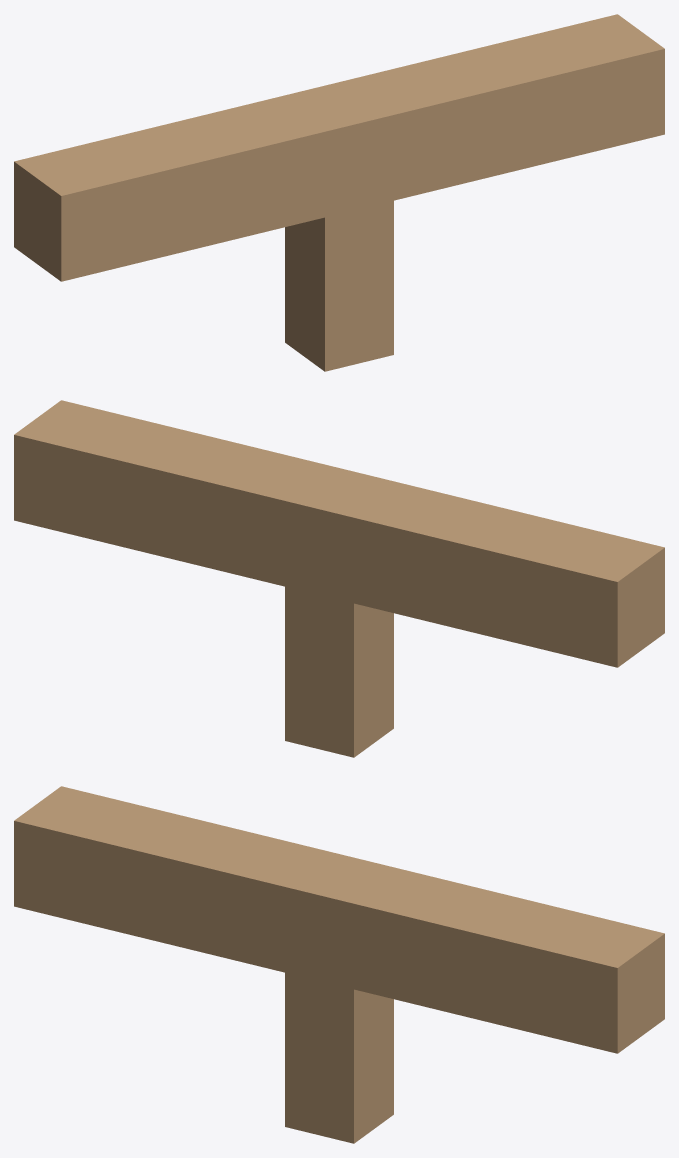
File: prop-auger-thandle-blank-ag1.fbx
3 views of the same model, one above another, from view 1: azimuth 30°, elevation 25°; view 2: azimuth 150°, elevation 25°; view 3: azimuth 330°, elevation 25° (orthographic).
Visible parts, largest first — view 1: prop-auger-thandle-blank-ag1; view 2: prop-auger-thandle-blank-ag1; view 3: prop-auger-thandle-blank-ag1.
Part boxes in pixels (x1,y1,x2,y2): prop-auger-thandle-blank-ag1: (14,14,664,371); prop-auger-thandle-blank-ag1: (14,400,664,757); prop-auger-thandle-blank-ag1: (14,786,664,1143).
Size of the model in its own units: 28 by 10.8 by 3.8.
